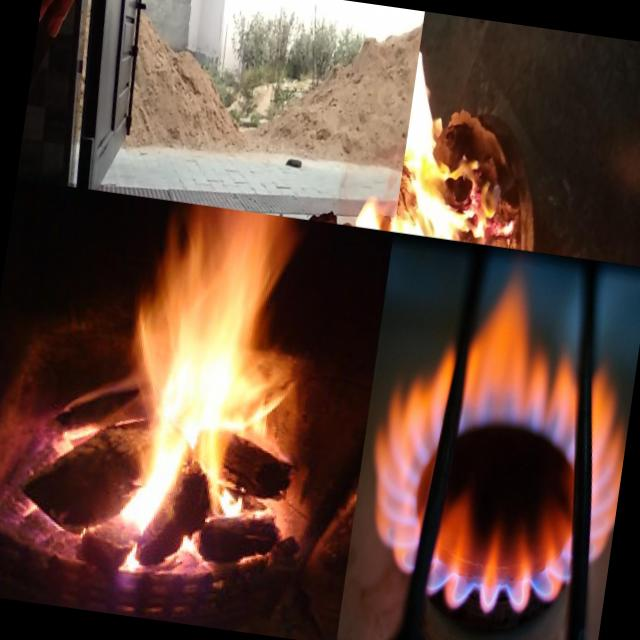fire: (355, 270, 640, 626), (70, 197, 327, 556), (394, 54, 537, 249)
